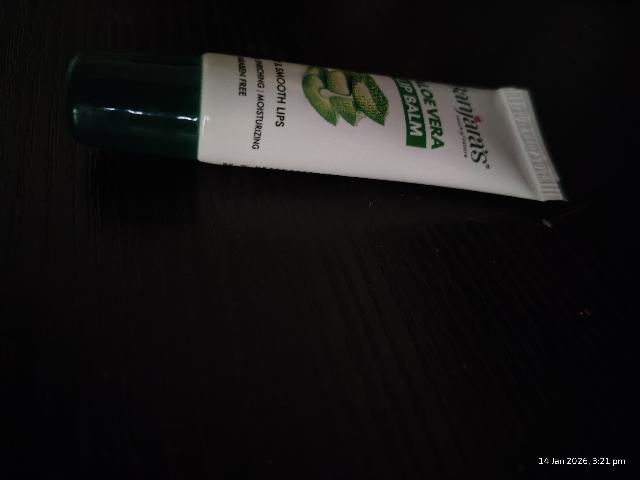banjaras lipbam: (58, 34, 590, 233)
